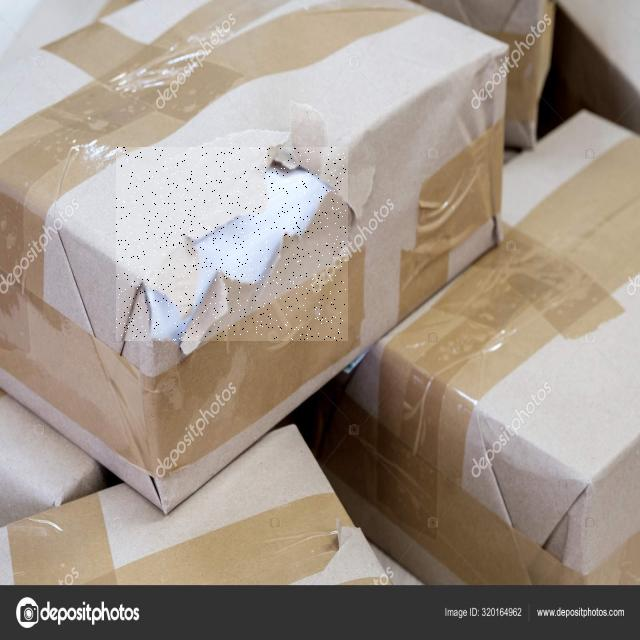tear: (116, 148, 346, 341)
